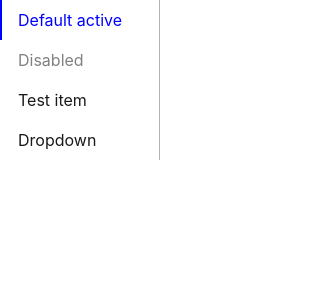
Test: Test Menu & MenuItem component › should show dropdown items when click on vertical mode SubMenu
Expected: the text "Dropdown-2" is not shown
Step 1. Click the text "Dropdown" → (57, 140), box [18, 130, 96, 150]
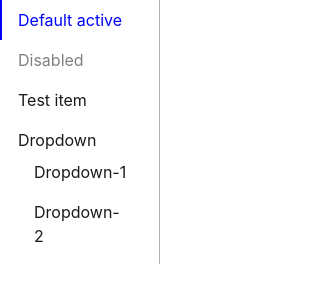
Now the list item "Dropdown-2" is shown
Step 2. Click the list item "Dropdown-2" → (77, 224), box [34, 202, 120, 246]
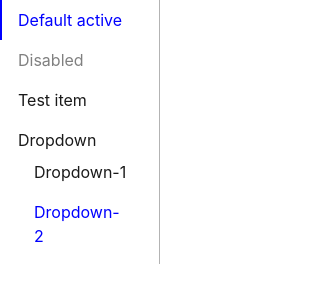
Step 3. Click the text "Dropdown" → (57, 140), box [18, 130, 96, 150]
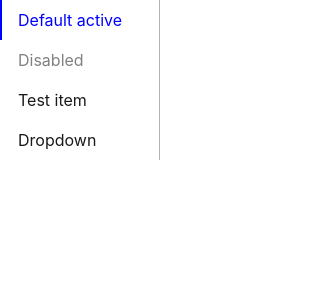
Now the list item "Dropdown-2" is gone
